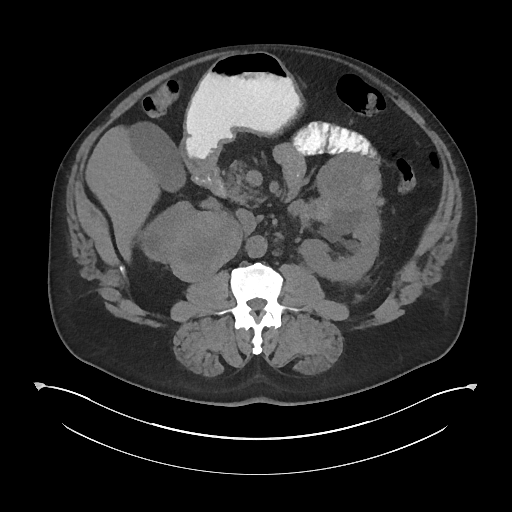Lesion: (170, 210, 244, 283)
